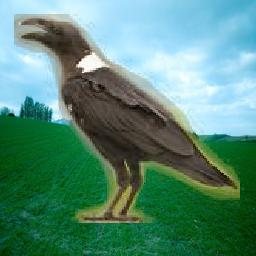Crow: (14, 15, 240, 224)
